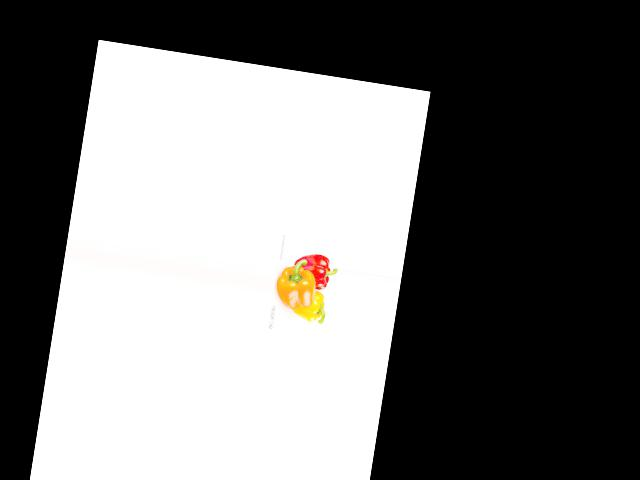bell_pepper: (289, 286, 331, 326)
